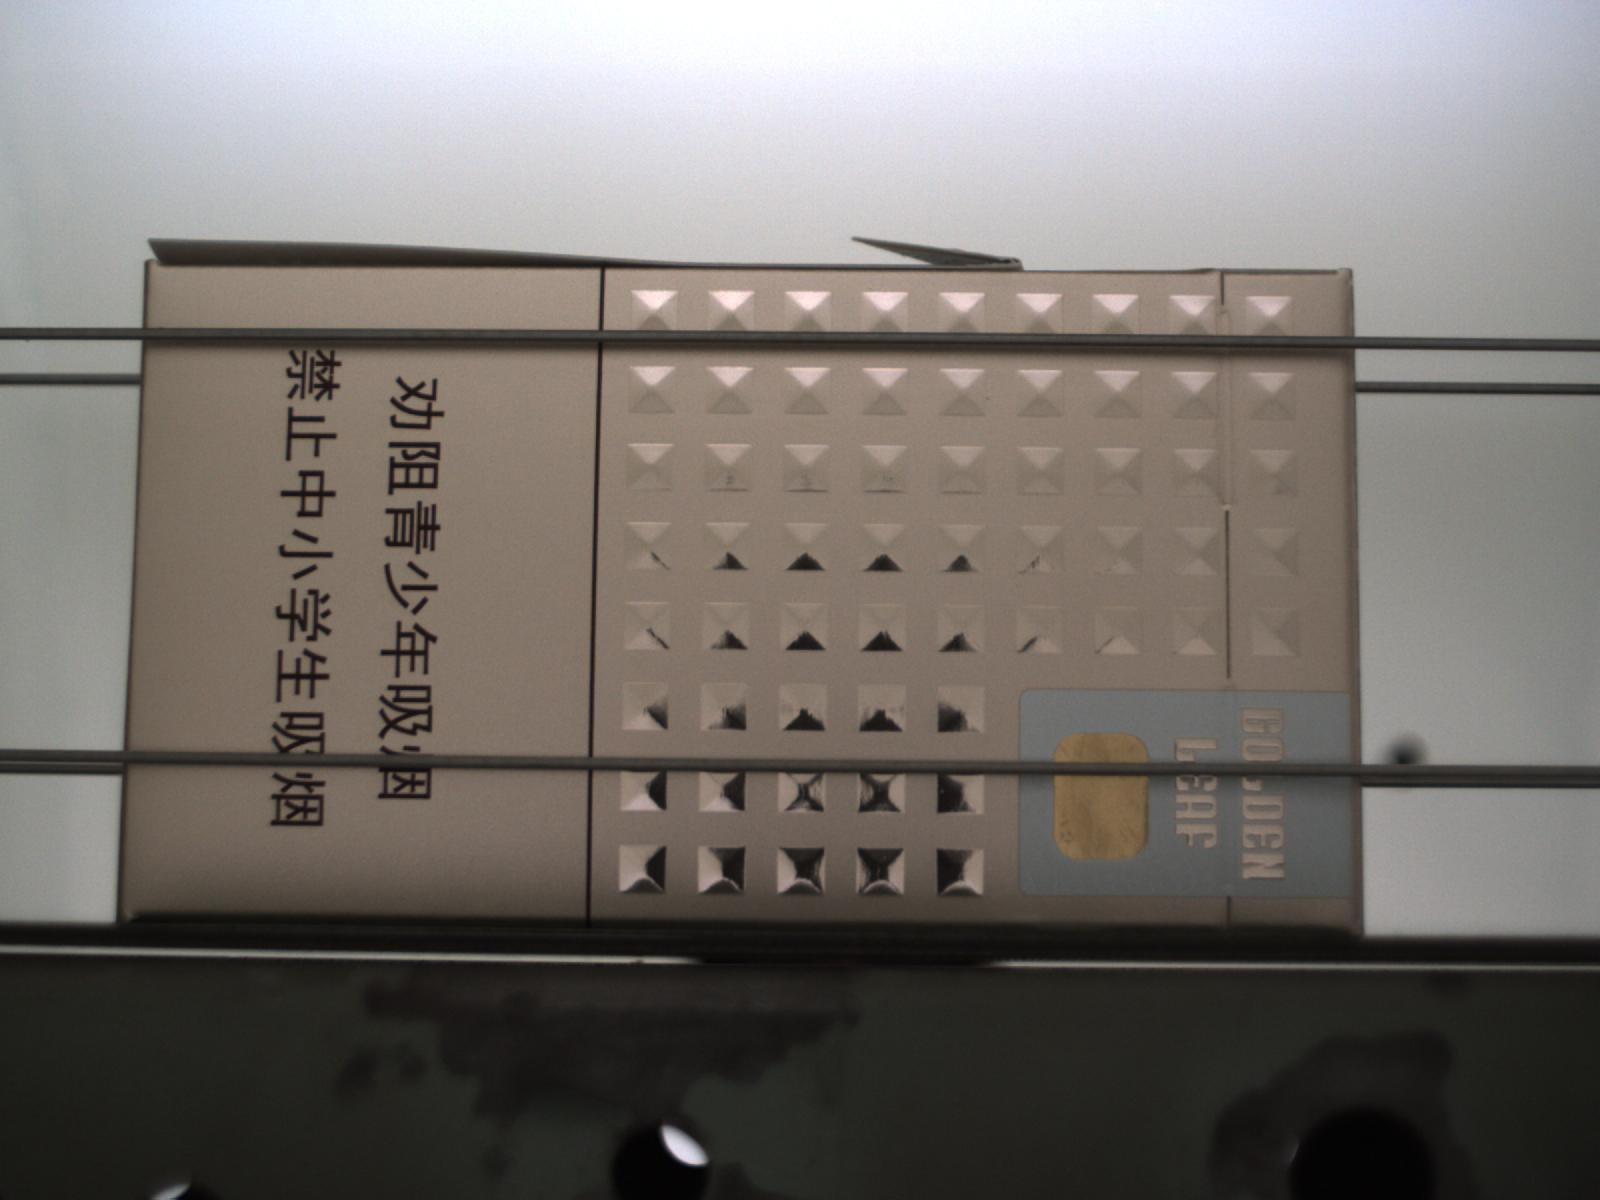bottomUpwarp_upper_1: (145, 234, 684, 272)
outerFold_upper_01: (848, 232, 1029, 279)
